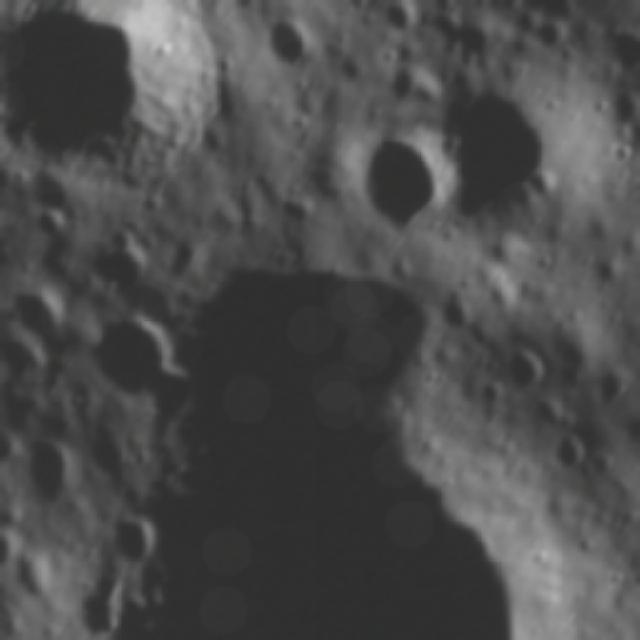crater: (130, 249, 544, 640), (3, 4, 229, 178), (432, 86, 566, 222), (359, 115, 453, 238), (82, 313, 178, 395), (27, 436, 93, 510), (7, 276, 76, 342), (264, 6, 324, 72), (72, 568, 125, 638), (143, 363, 202, 425), (128, 280, 194, 334), (456, 4, 515, 64), (91, 246, 158, 296), (109, 510, 162, 568), (503, 339, 552, 398), (2, 327, 50, 385), (11, 545, 58, 598), (38, 167, 85, 211), (86, 434, 132, 478), (603, 20, 640, 72), (596, 360, 633, 406), (550, 427, 588, 471), (383, 63, 423, 103), (378, 2, 420, 40), (526, 162, 562, 206), (272, 195, 318, 227), (32, 205, 70, 241), (532, 14, 568, 51), (439, 293, 475, 330), (587, 446, 622, 483), (609, 81, 640, 122), (592, 252, 623, 288), (482, 377, 509, 414), (561, 358, 587, 396), (418, 362, 447, 392), (605, 134, 633, 164), (252, 166, 277, 189)
